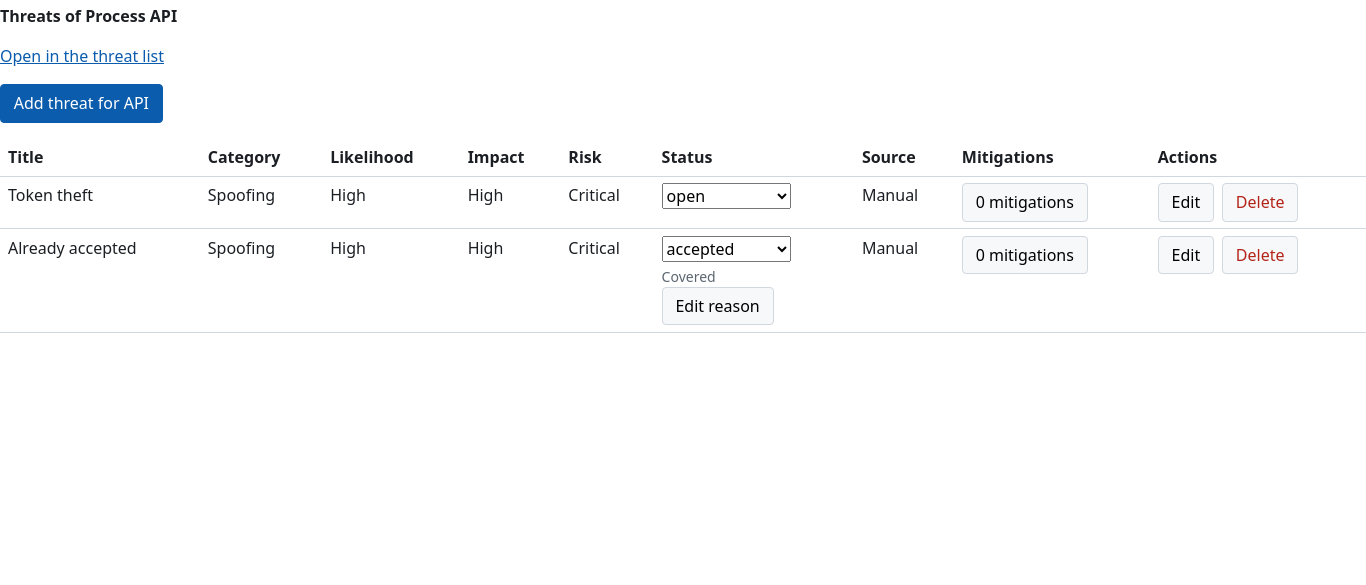
adding and moving a manual threat from the panel › offers "Add threat for {name}" and posts a manual threat linked to the element
The image size is (1366, 585).
Expected: the text "Token theft" is shown, 0,176 -> 200,229
Click the button "Add threat for API": (81,103) 0,84 -> 163,123
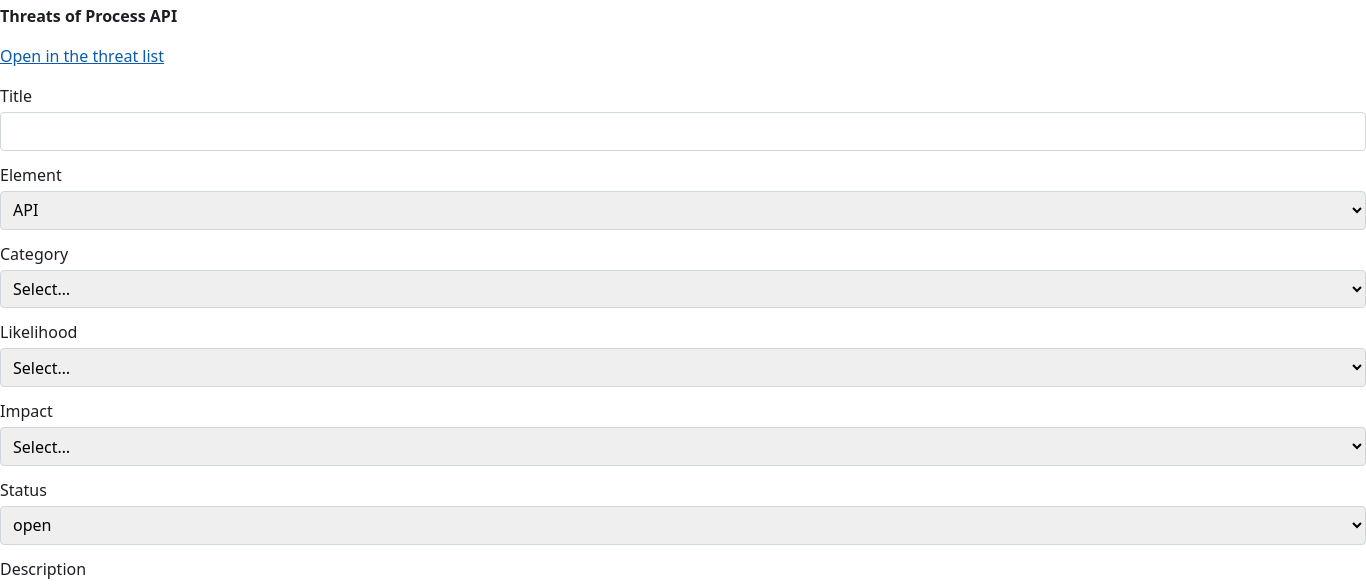
In the field labelled "Title": (683,131) 0,112 -> 1365,151, type "Business logic abuse"
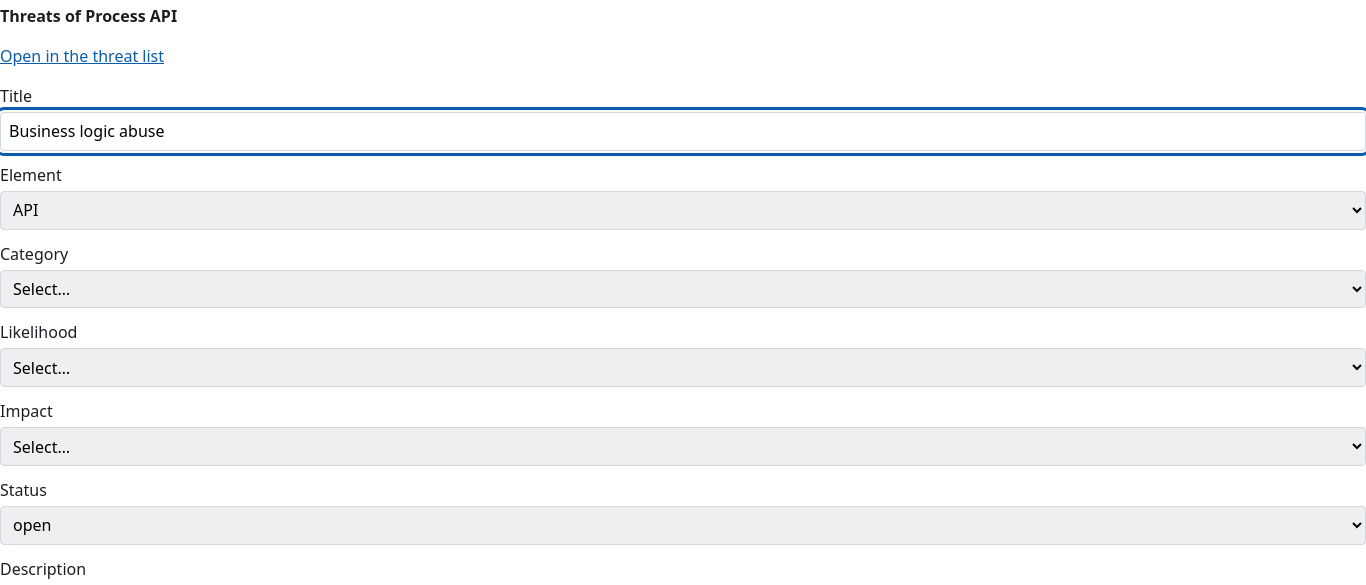
Select "Tampering" in the dropdown labelled "Category": (683,289) 0,270 -> 1365,308
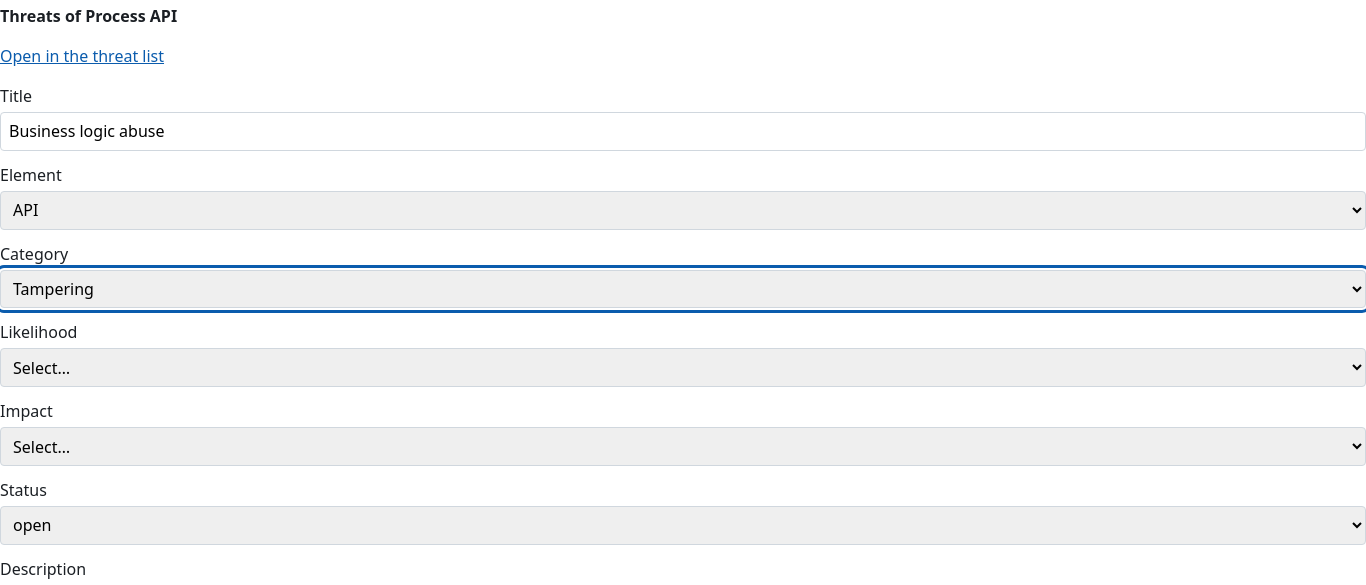
Select "Medium" in the dropdown labelled "Likelihood": (683,368) 0,348 -> 1365,387
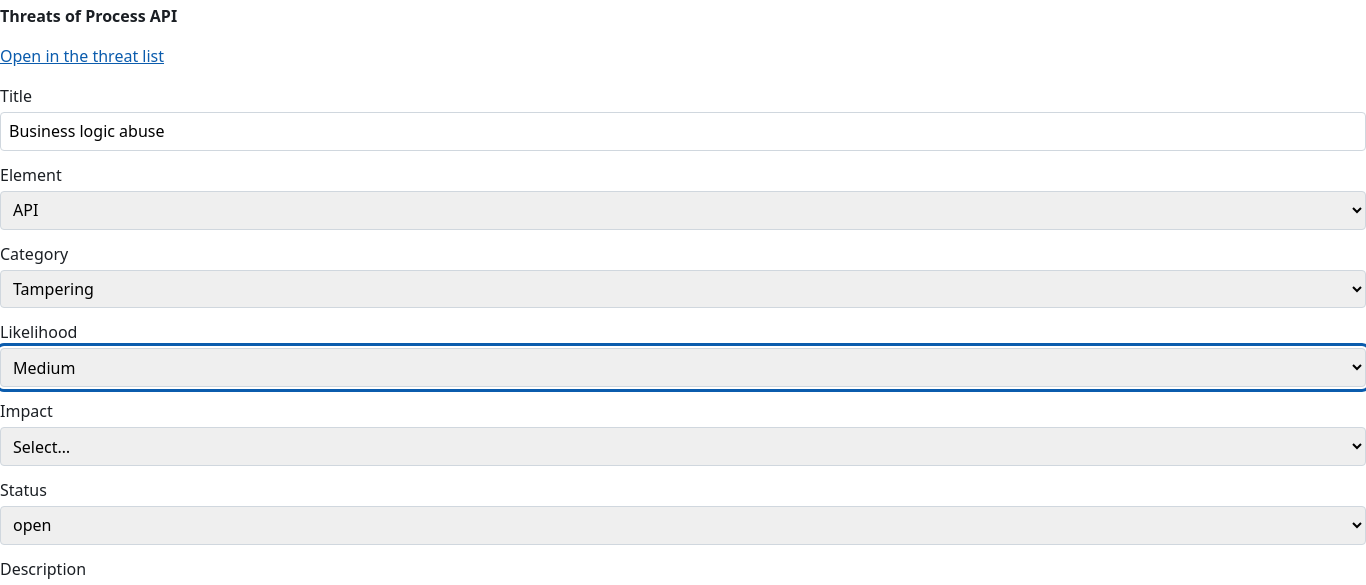
Select "High" in the dropdown labelled "Impact": (683,446) 0,427 -> 1365,466
(page scrolled)
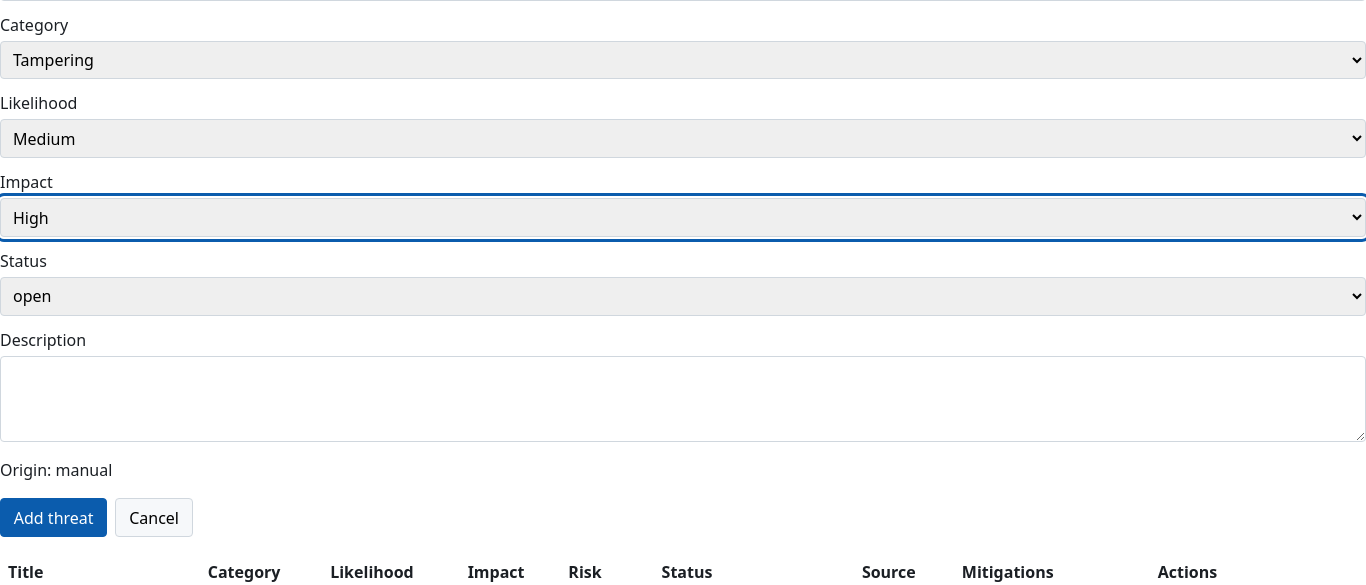
Click the button "Add threat": (54,518) 0,498 -> 107,537
(page scrolled)
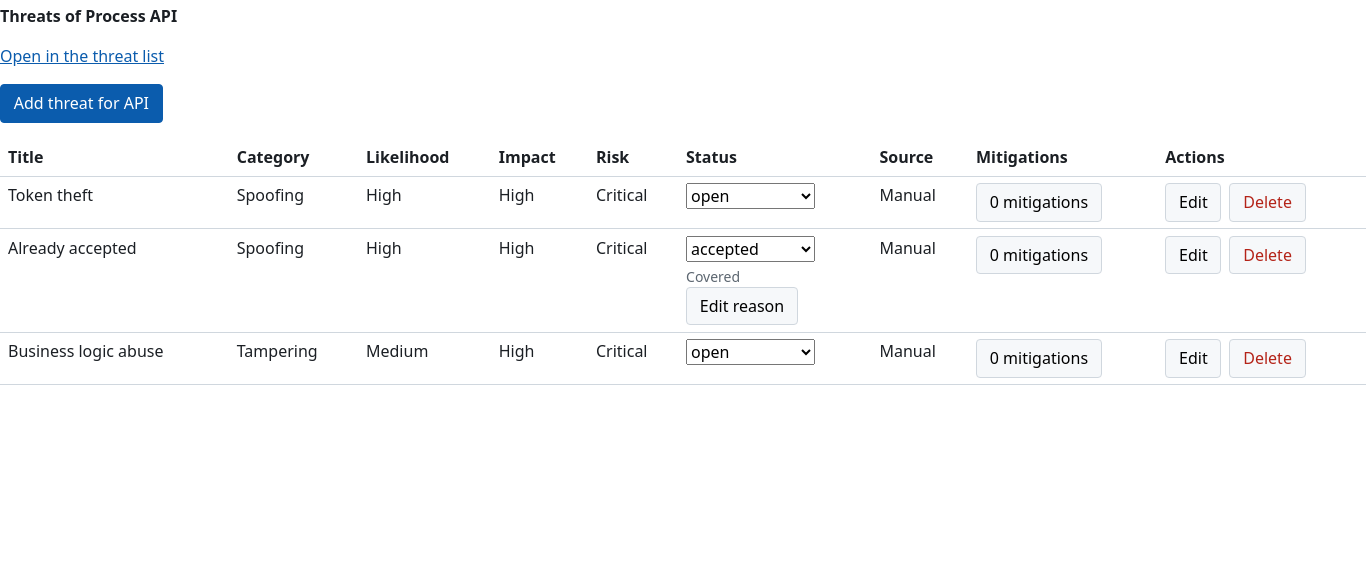
Result: the text "Business logic abuse" is shown at 0,332 -> 229,385
